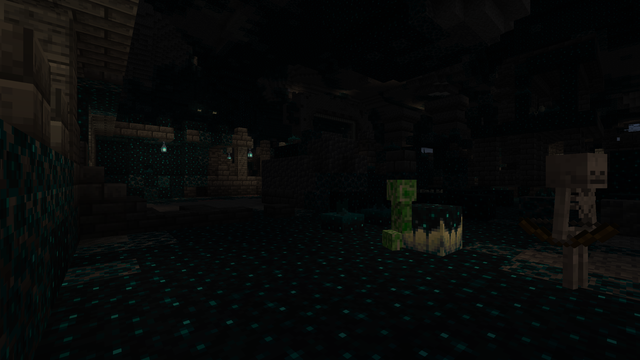creepers: (383, 176, 418, 251)
squelettes: (545, 152, 605, 298)
